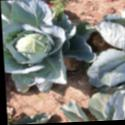cabbage: (7, 31, 46, 63)
